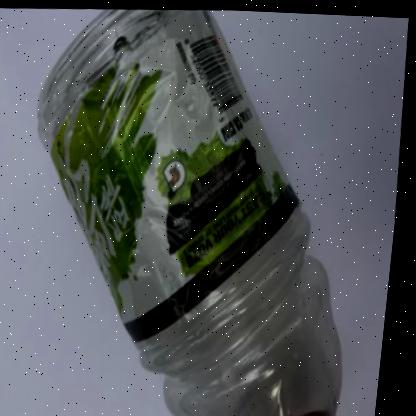Plastic: (41, 7, 349, 416)
